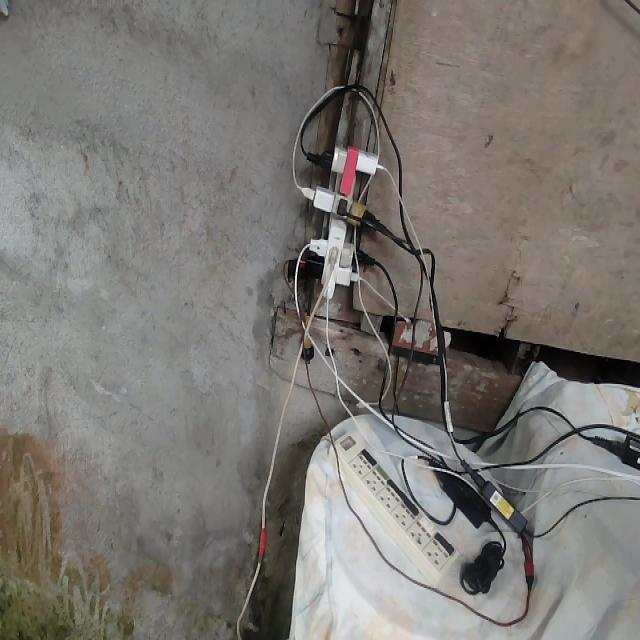-: (305, 136, 381, 301)
